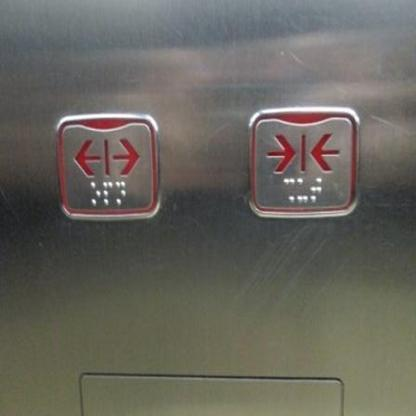close: (246, 105, 362, 221)
open: (53, 110, 163, 225)
